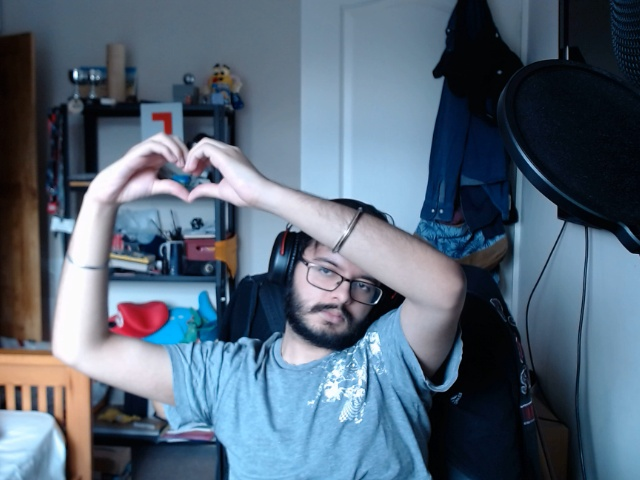Heart: (103, 127, 264, 208)
